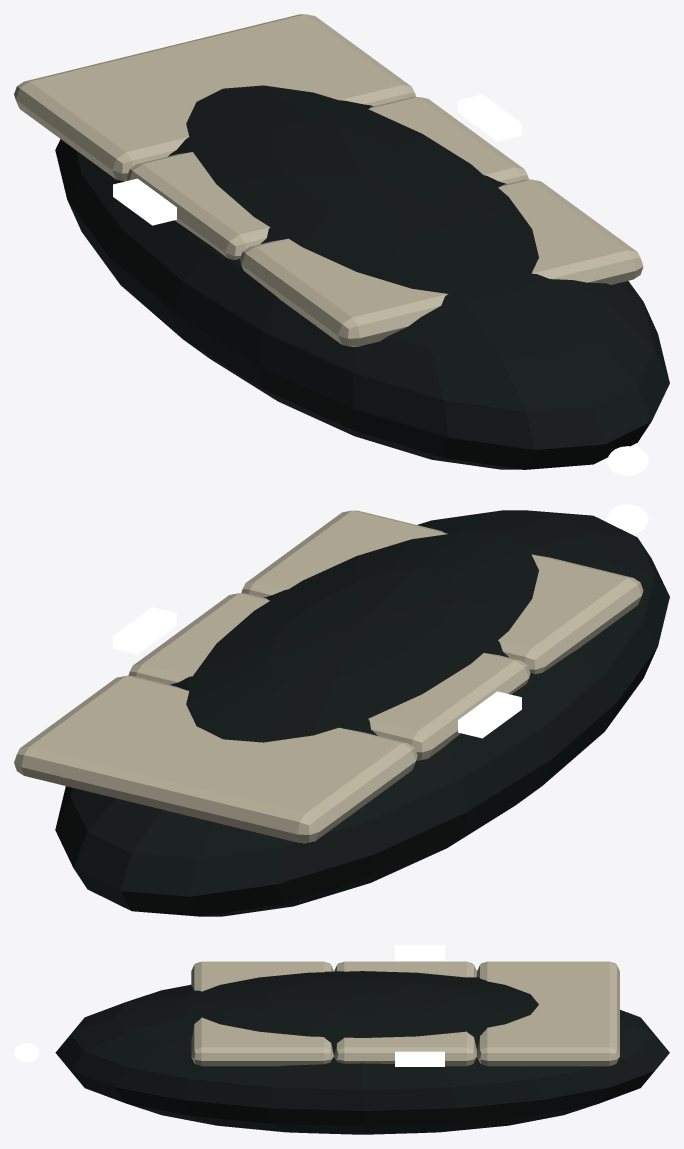
The picture shows the model from 3 angles, top to bottom: view 1: azimuth 30°, elevation 25°; view 2: azimuth 150°, elevation 25°; view 3: azimuth 270°, elevation 25°; orthographic projection. The views are drawn at different scales.
Visible parts, largest first — view 1: RIMWARD_HULL, RIMWARD_EMISSIVE, RIMWARD_ENGINE_GLOW; view 2: RIMWARD_HULL, RIMWARD_EMISSIVE, RIMWARD_ENGINE_GLOW; view 3: RIMWARD_HULL, RIMWARD_EMISSIVE, RIMWARD_ENGINE_GLOW.
Boxes of the visible parts, box(x1,y1,x2,y2) form: RIMWARD_HULL: box(14, 14, 669, 469); RIMWARD_EMISSIVE: box(113, 94, 521, 225); RIMWARD_ENGINE_GLOW: box(607, 446, 648, 475); RIMWARD_HULL: box(14, 510, 669, 916); RIMWARD_EMISSIVE: box(113, 607, 521, 738); RIMWARD_ENGINE_GLOW: box(607, 504, 648, 533); RIMWARD_HULL: box(55, 961, 669, 1134); RIMWARD_EMISSIVE: box(395, 945, 444, 1066); RIMWARD_ENGINE_GLOW: box(14, 1043, 39, 1062).
Size of the model in its own units: 3.01 by 1.42 by 7.16.
